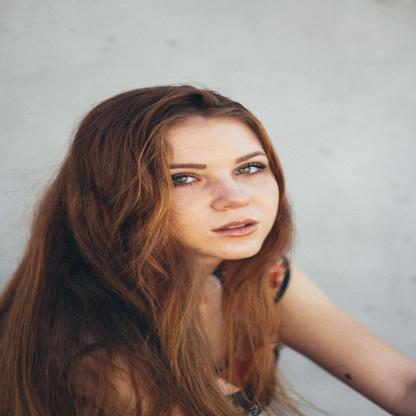Eye: (165, 166, 205, 190), (226, 158, 270, 178)
Mouth: (208, 216, 262, 242)
Nose: (208, 172, 252, 212)
